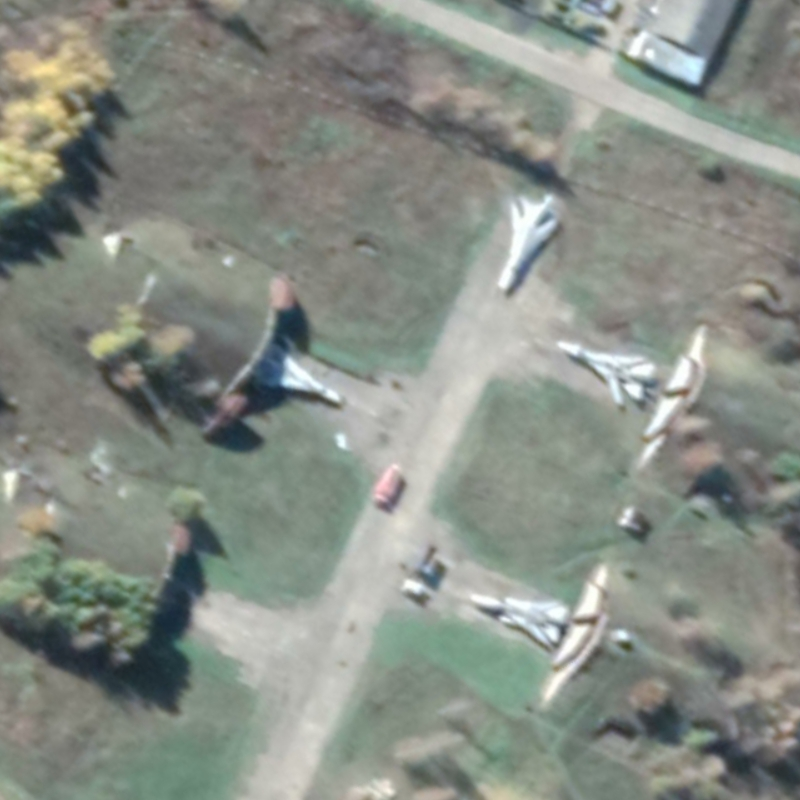A20: (555, 339, 658, 408), (495, 194, 561, 292), (251, 341, 344, 406), (468, 591, 569, 647)
